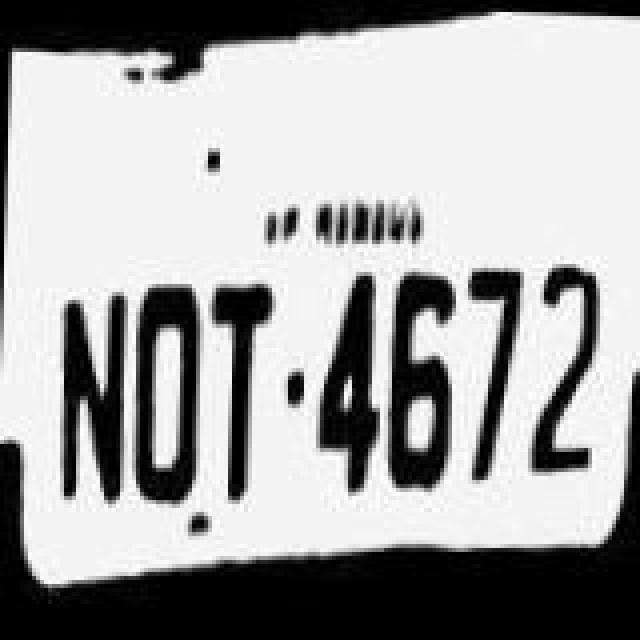2: (520, 252, 604, 484)
4: (312, 260, 388, 500)
6: (382, 260, 462, 496)
7: (454, 250, 526, 486)
N: (44, 270, 136, 514)
O: (126, 264, 206, 508)
T: (200, 268, 276, 508)
